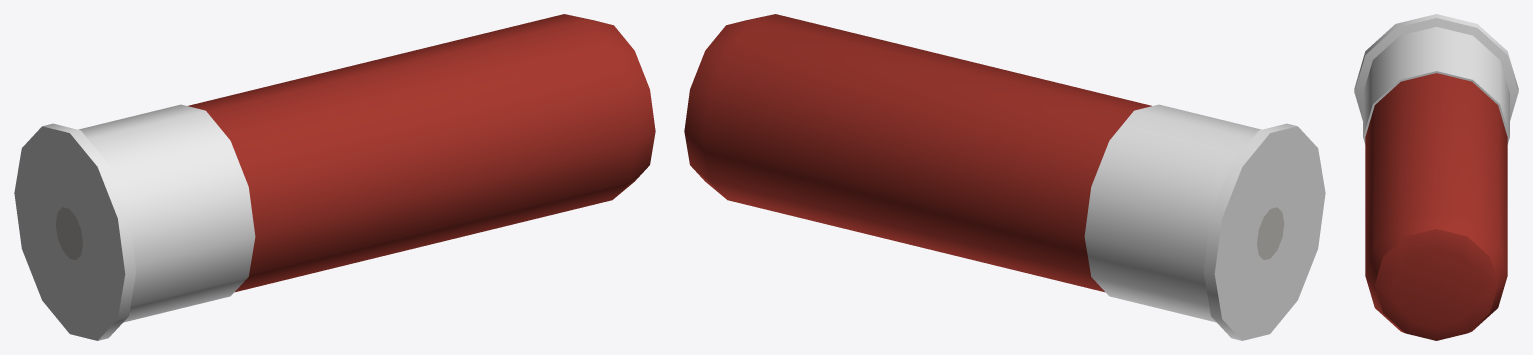
Rendered from Shotgun_Round.fbx.
3 renders of one model, left to right at view 1: azimuth 30°, elevation 25°; view 2: azimuth 150°, elevation 25°; view 3: azimuth 270°, elevation 25°, orthographic. The views are drawn at different scales.
Parts seen in each view (by area): view 1: Shotgun_Round; view 2: Shotgun_Round; view 3: Shotgun_Round.
Part boxes in pixels (bbox=[...]): Shotgun_Round: bbox=[14, 14, 655, 340]; Shotgun_Round: bbox=[684, 14, 1325, 340]; Shotgun_Round: bbox=[1354, 14, 1518, 340].
Size of the model in its own units: 0.065 by 0.0226 by 0.0226.
